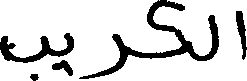ا: (234, 9, 244, 60)
ب: (0, 34, 48, 79)
ر: (80, 31, 124, 79)
ك: (145, 0, 186, 60)
ل: (207, 12, 217, 60)
ي: (50, 31, 72, 76)
